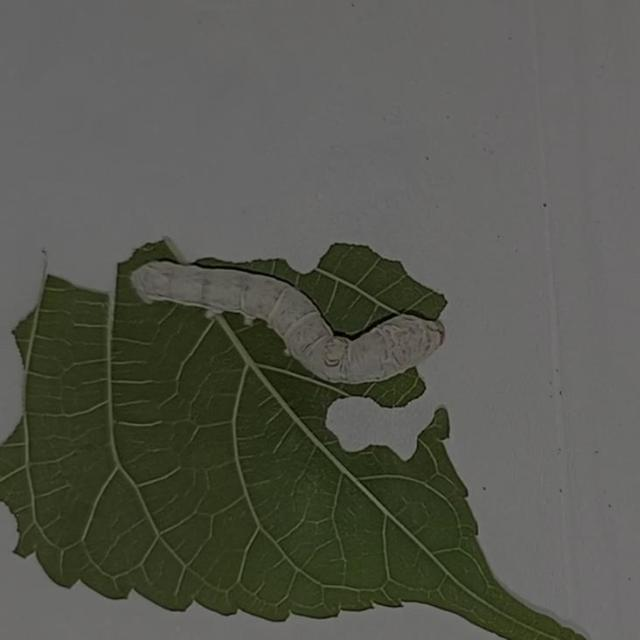Healthy: (118, 246, 454, 395)
